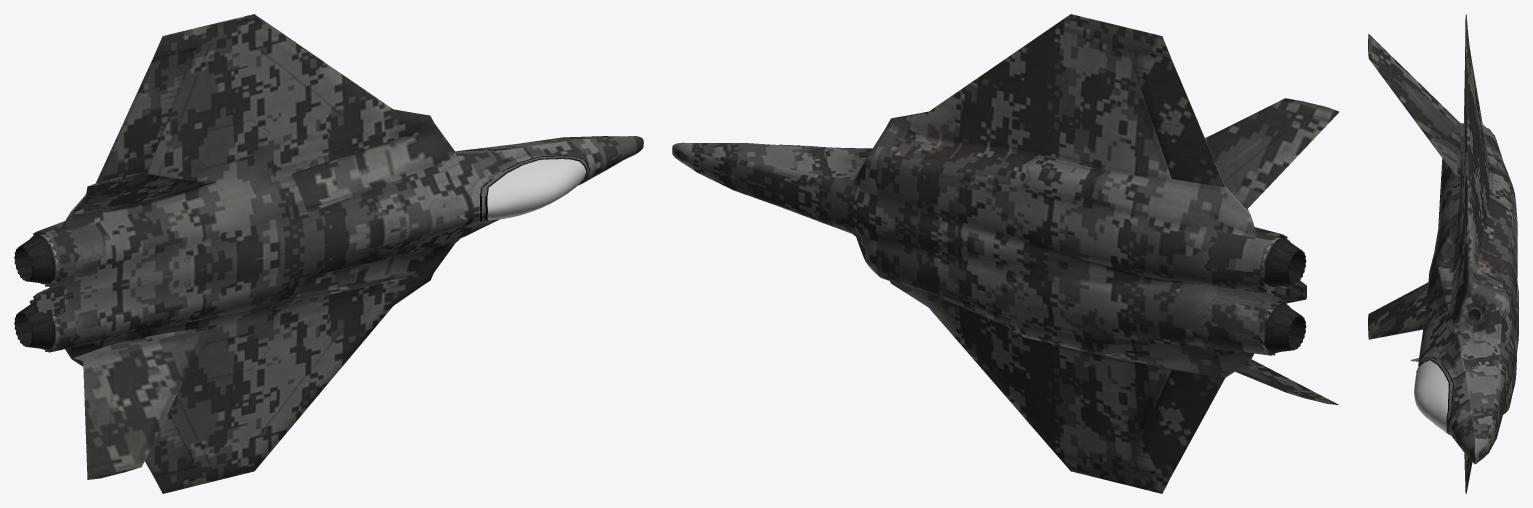
File: veh_t6_air_fa38_killstreak_alt_LOD0.obj
3 renders of one model, left to right at view 1: azimuth 30°, elevation 25°; view 2: azimuth 150°, elevation 25°; view 3: azimuth 270°, elevation 25°, orthographic. The views are drawn at different scales.
Visible parts, largest first — view 1: mtl_veh_t6_air_fa38_body_enemy, mtl_veh_t6_air_fa38_glass_outside_low; view 2: mtl_veh_t6_air_fa38_body_enemy; view 3: mtl_veh_t6_air_fa38_body_enemy, mtl_veh_t6_air_fa38_glass_outside_low, mtl_veh_t6_air_fa38_cockpit_low, mtl_veh_t6_air_fa38_decals_mult_low.
Boxes of the visible parts, x1,y1,x2,y2 form: mtl_veh_t6_air_fa38_body_enemy: (14,14,643,493); mtl_veh_t6_air_fa38_glass_outside_low: (487,159,586,220); mtl_veh_t6_air_fa38_body_enemy: (672,14,1339,493); mtl_veh_t6_air_fa38_body_enemy: (1368,14,1518,493); mtl_veh_t6_air_fa38_glass_outside_low: (1414,360,1448,432); mtl_veh_t6_air_fa38_cockpit_low: (1418,356,1454,435); mtl_veh_t6_air_fa38_decals_mult_low: (1419,357,1453,434).
Size of the model in its own units: 1508 by 1059 by 331.
